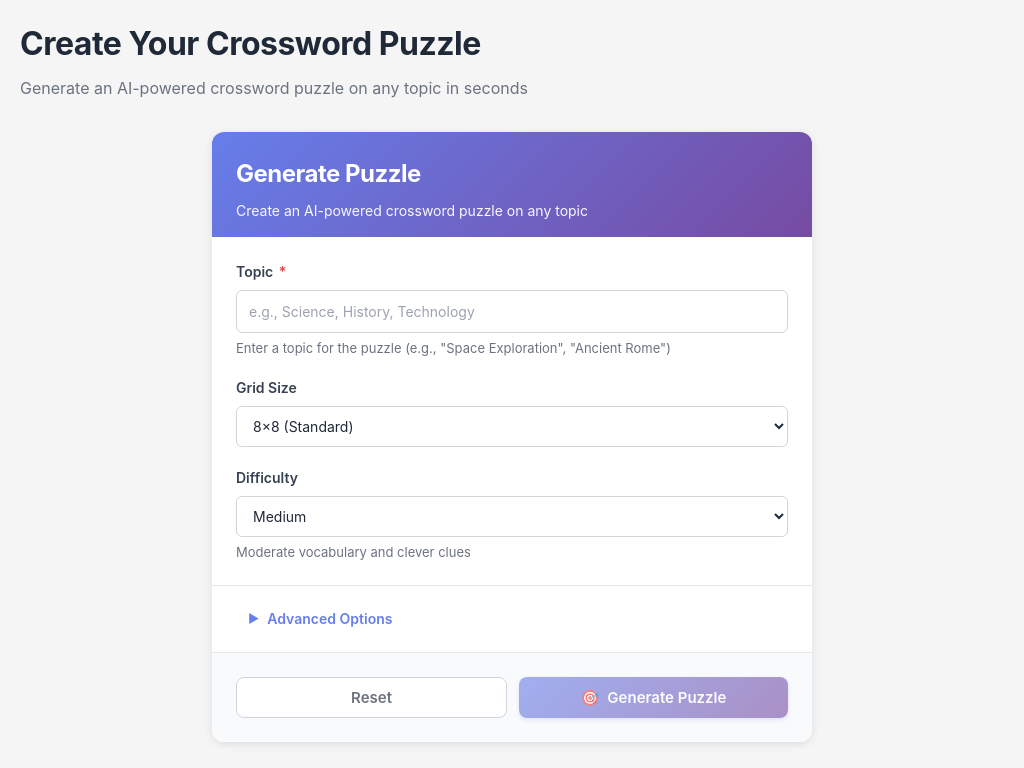
Test: PuzzleGenerator Component › Puzzle Generation › should show loading state during generation
# Fill in and submit
Type "Science" into the field with test id "topic-input". click: (512, 312)
box: [236,290,788,333]
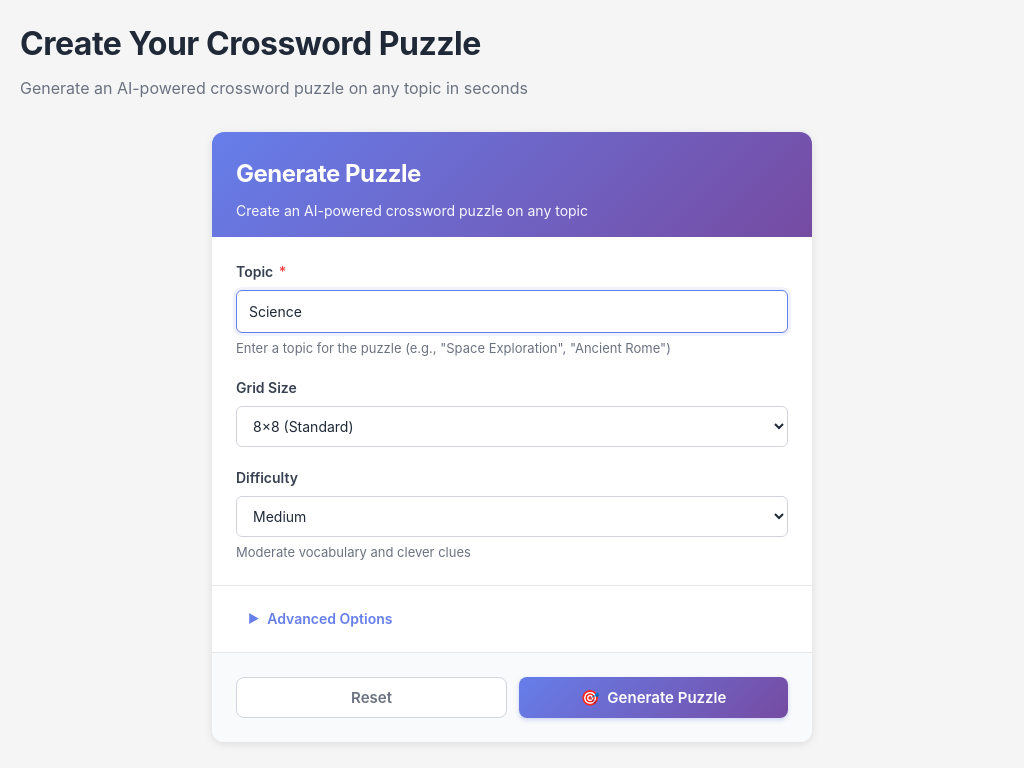
Click the button with test id "submit-button". click: (654, 698)
box: [519,677,788,718]
(page scrolled)
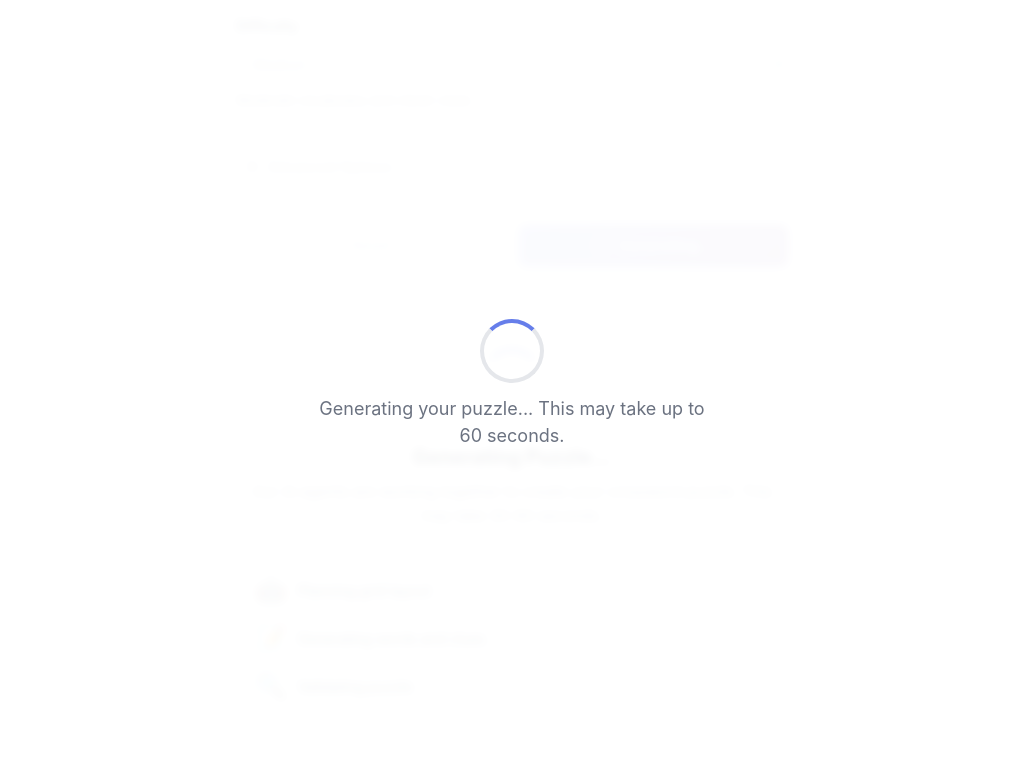
Expected: the element with test id "generating-state" is shown, [236,338,788,724]
